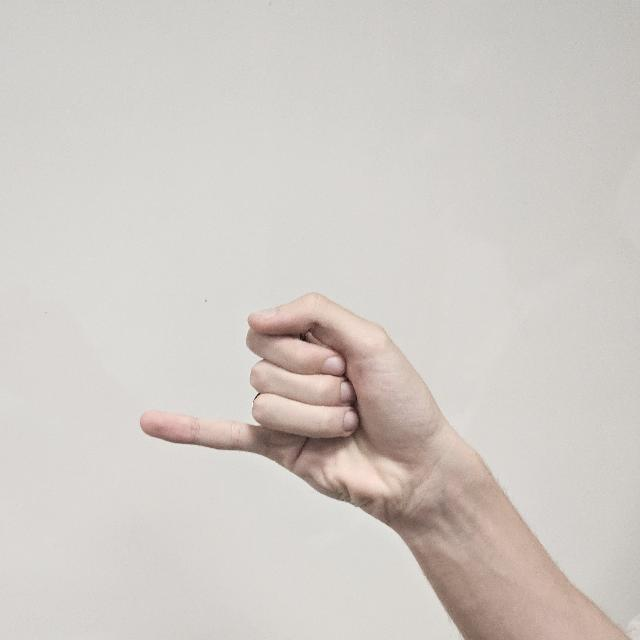Esquerda: (128, 254, 434, 532)
